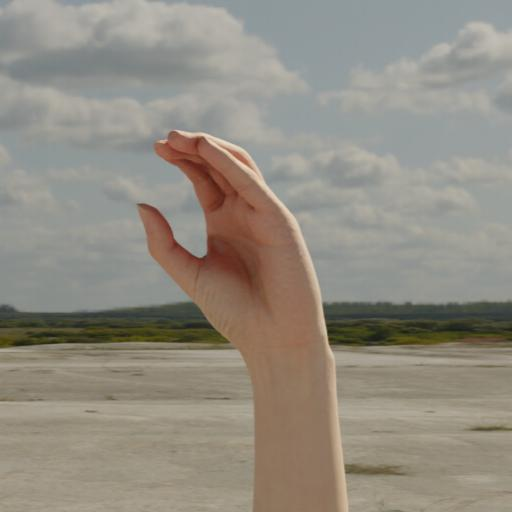C: (113, 92, 345, 350)
